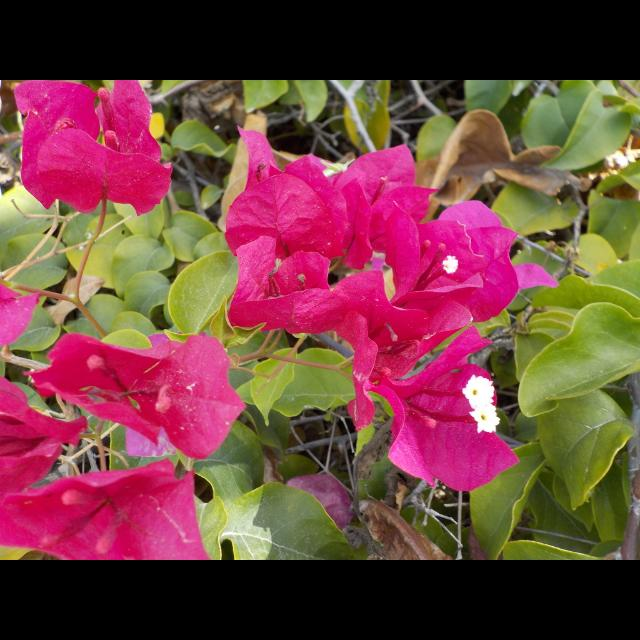Flower: (152, 114, 538, 503), (0, 375, 214, 559), (24, 328, 252, 464), (12, 80, 174, 222), (0, 283, 42, 349)
